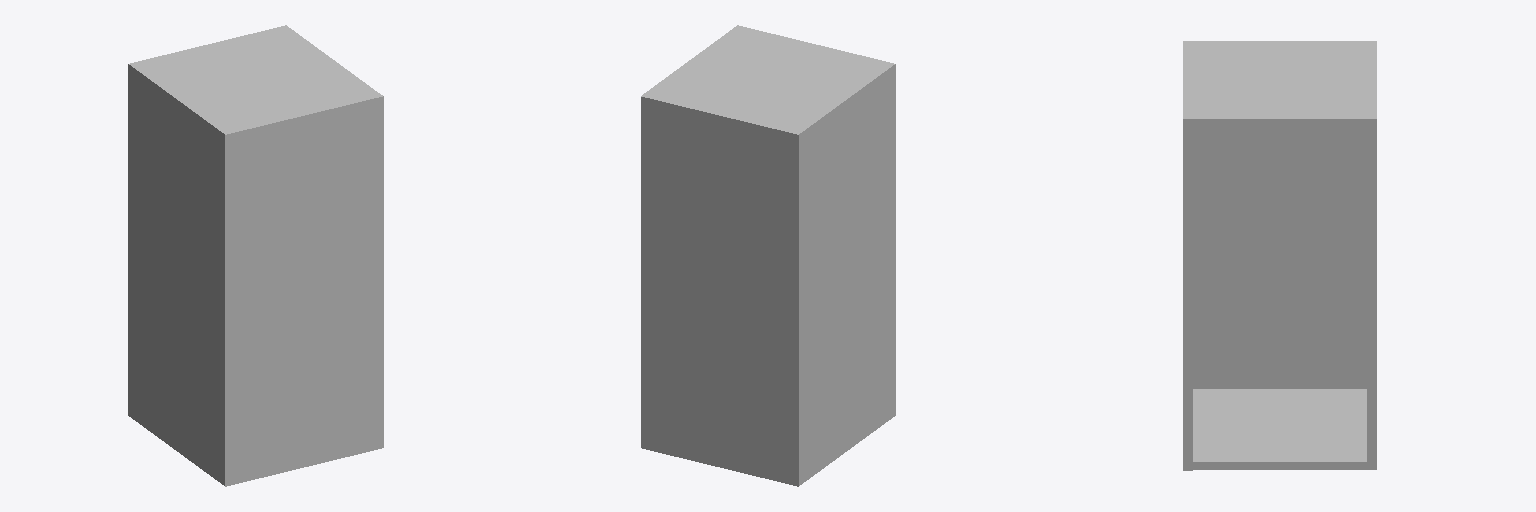
File: fridge_door_collider.obj
3 views of the same model, side by side, from view 1: azimuth 30°, elevation 25°; view 2: azimuth 150°, elevation 25°; view 3: azimuth 270°, elevation 25° (orthographic).
Parts seen in each view (by area): view 1: Cube.004_Cube.001, Cube.003_Cube.001, Cube.000_Cube.001, Cube.001, Cube.002_Cube.001; view 2: Cube.001, Cube.003_Cube.001, Cube.000_Cube.001, Cube.002_Cube.001, Cube.004_Cube.001; view 3: Cube.003_Cube.001, Cube.000_Cube.001, Cube.002_Cube.001, Cube.004_Cube.001, Cube.001.
Part boxes in pixels (bbox=[...]): Cube.004_Cube.001: bbox=[225, 93, 383, 483]; Cube.003_Cube.001: bbox=[128, 62, 233, 486]; Cube.000_Cube.001: bbox=[129, 26, 382, 143]; Cube.001: bbox=[128, 25, 290, 417]; Cube.002_Cube.001: bbox=[128, 407, 382, 486]; Cube.001: bbox=[641, 94, 802, 485]; Cube.003_Cube.001: bbox=[790, 62, 895, 486]; Cube.000_Cube.001: bbox=[641, 29, 895, 143]; Cube.002_Cube.001: bbox=[642, 411, 895, 485]; Cube.004_Cube.001: bbox=[733, 25, 887, 66]; Cube.003_Cube.001: bbox=[1183, 41, 1376, 388]; Cube.000_Cube.001: bbox=[1193, 46, 1376, 126]; Cube.002_Cube.001: bbox=[1193, 389, 1366, 469]; Cube.004_Cube.001: bbox=[1183, 42, 1192, 470]; Cube.001: bbox=[1367, 46, 1376, 469].
Size of the model in its own units: 1.88 by 4 by 2.